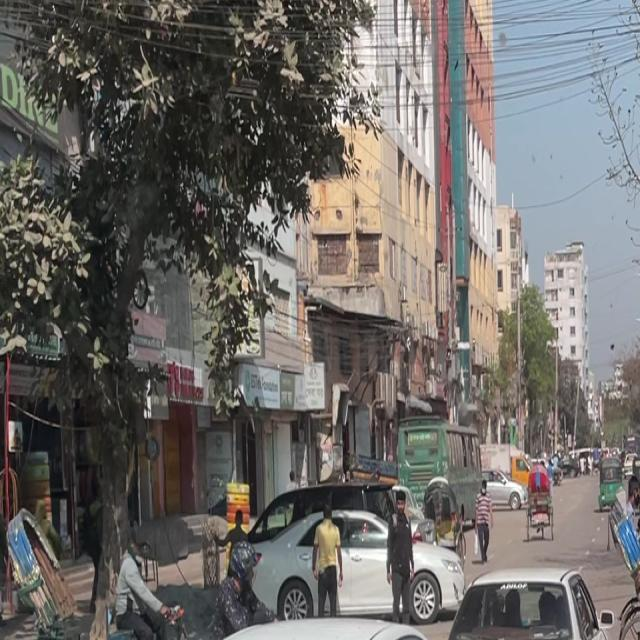car: (58, 580, 475, 640), (426, 556, 627, 640), (451, 637, 639, 640)
